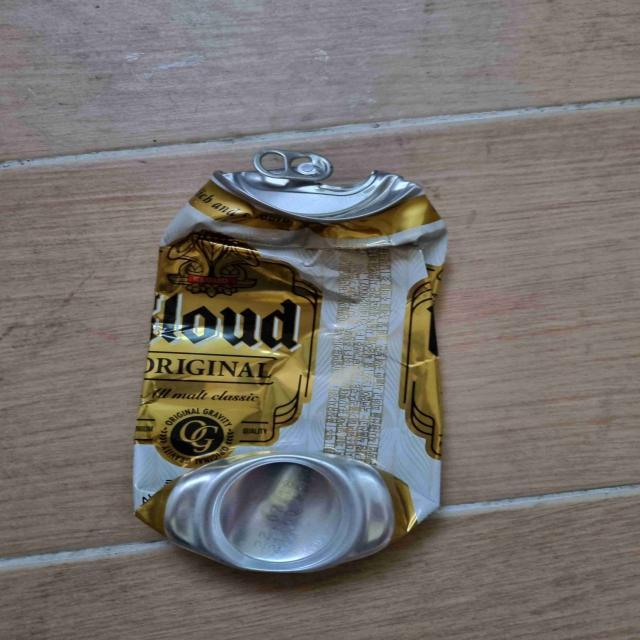kimloai: (132, 149, 448, 572)
